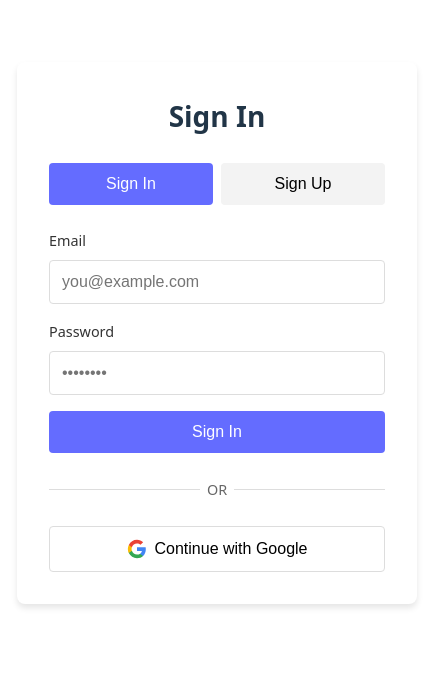
Scenario: LoginPage › validates empty password field
This screenshot has width=435, height=685.
Type "test@example.com" into the field labelled "Email".
click(217, 282); type("test@example.com")  # box [49,260,385,304]
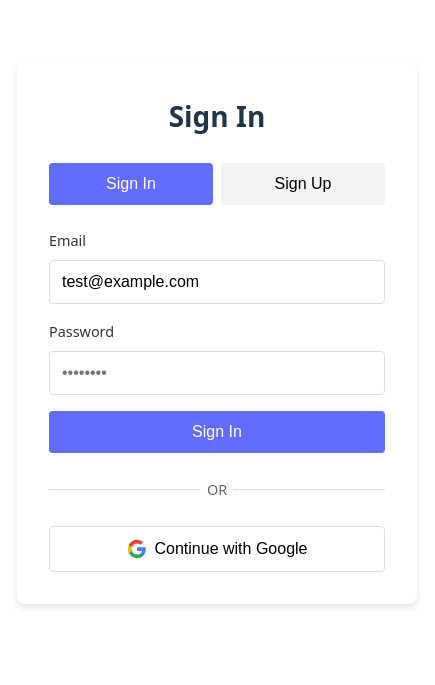
Click the button "Sign In".
click(217, 432)  # box [49,411,385,453]
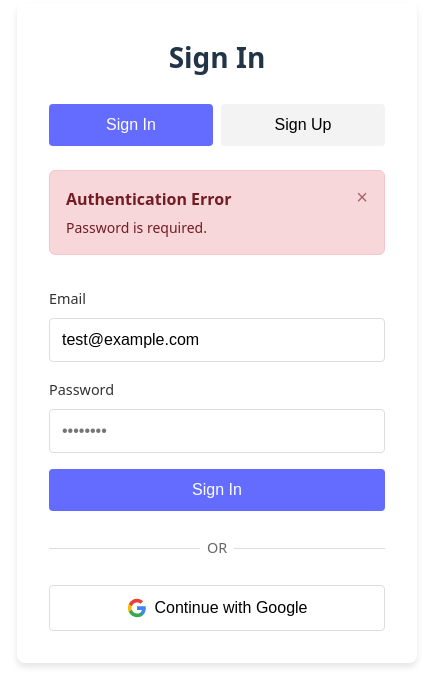
Check: the text "Password is required." is shown, box [66,218,207,237]
